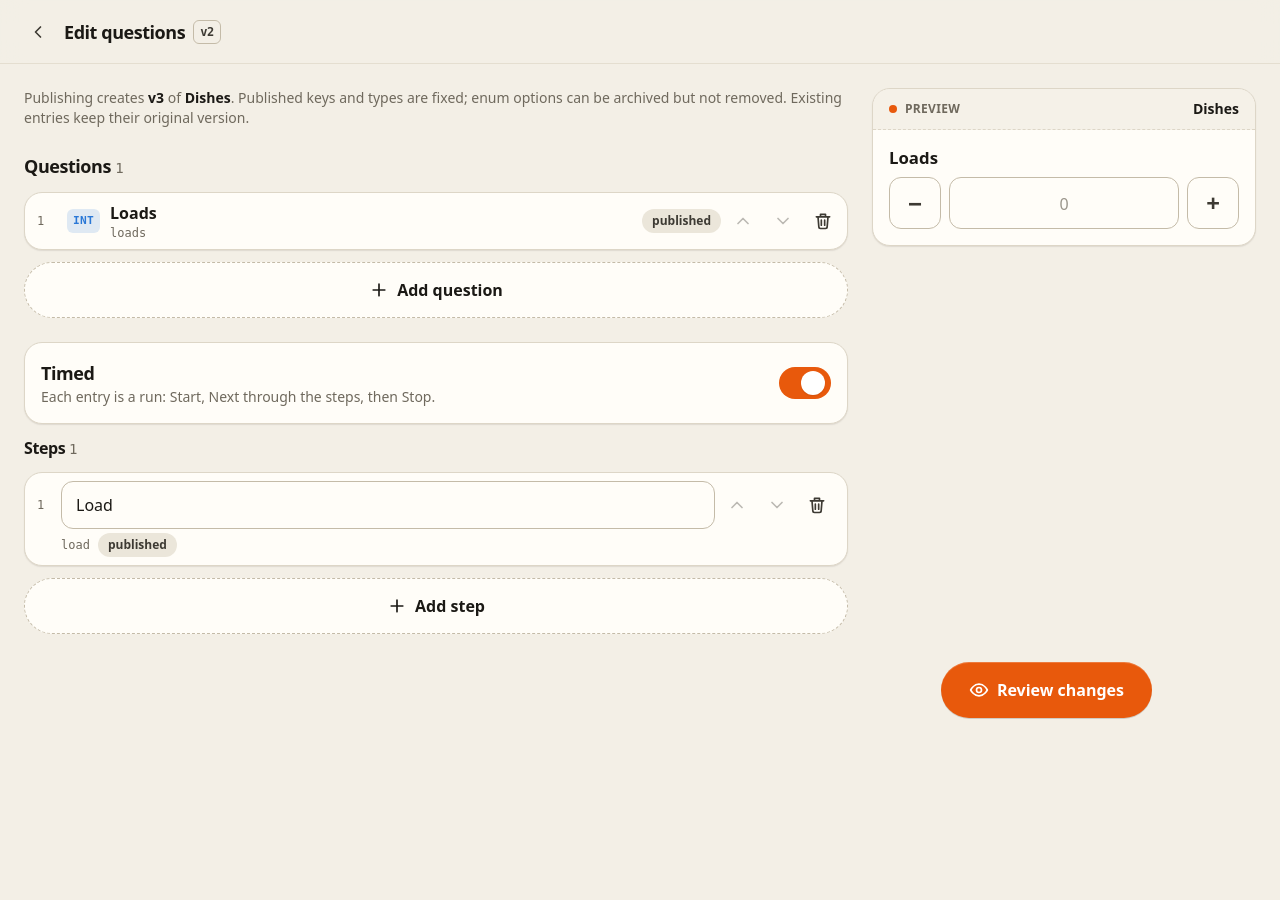
Test case: EditQuestionsPage publish › a new step never takes a retired step’s key, unless it is that step
The width and height of the screenshot is (1280, 900).
Click the button "Add step": (436, 606) left=24, top=578, right=848, bottom=634
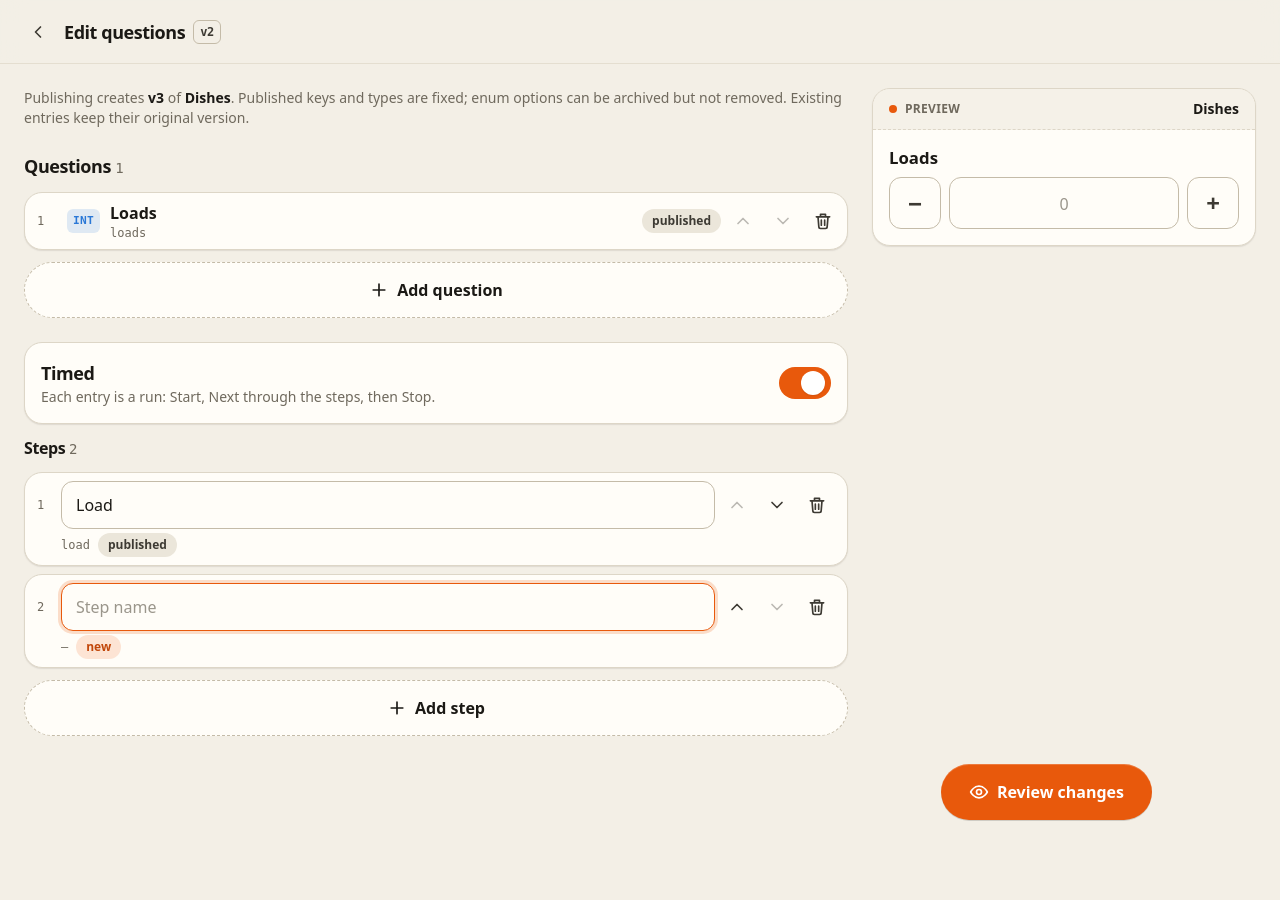
In the field named "Step 2 name": (388, 607) left=61, top=583, right=715, bottom=631, type "Prep"
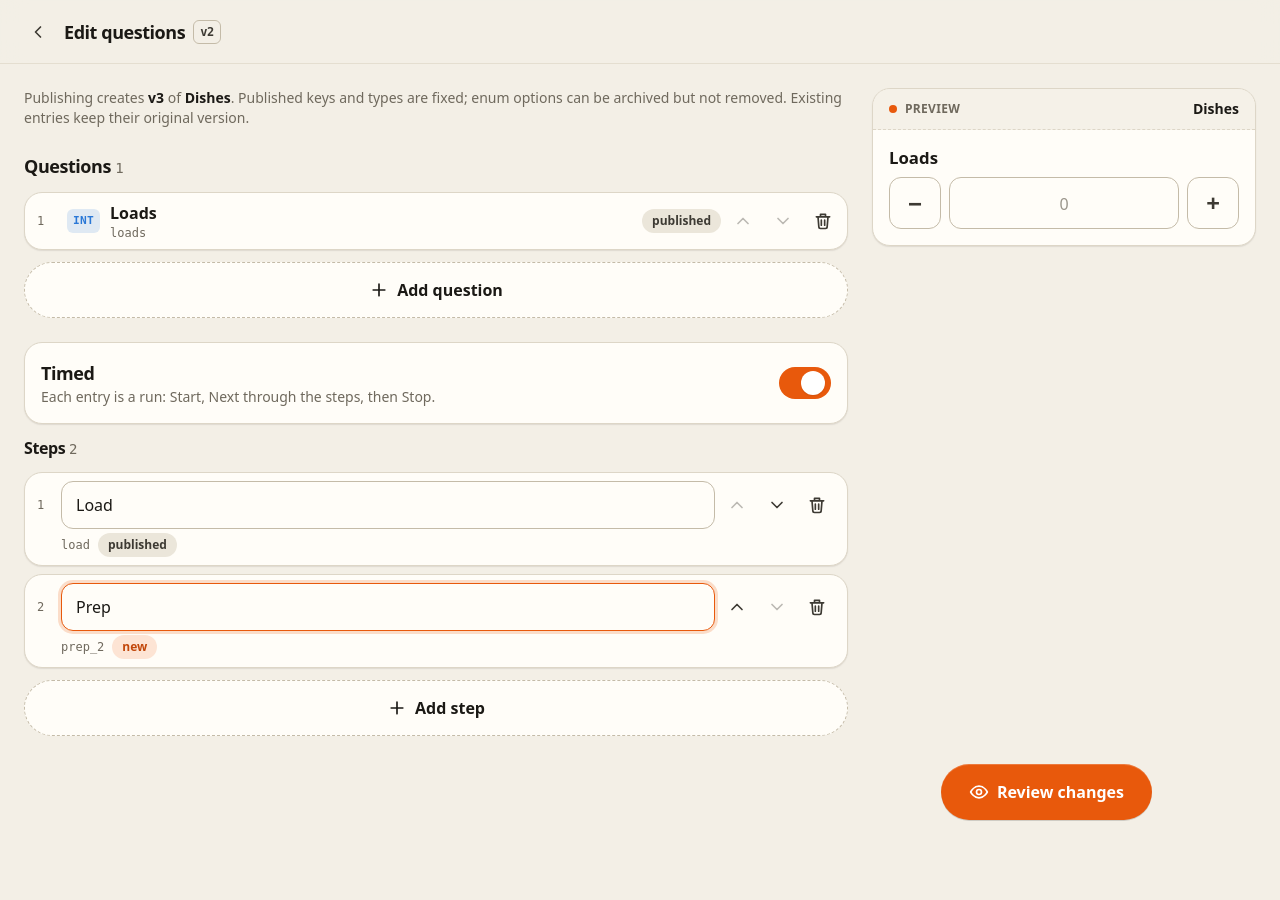
Now the elements with test id "step-key" read "load", "prep_2", in this order, box left=61, top=537, right=90, bottom=553; left=61, top=639, right=104, bottom=655
Replace the text in the field named "Step 2 name" with "prep work": (388, 607) left=61, top=583, right=715, bottom=631
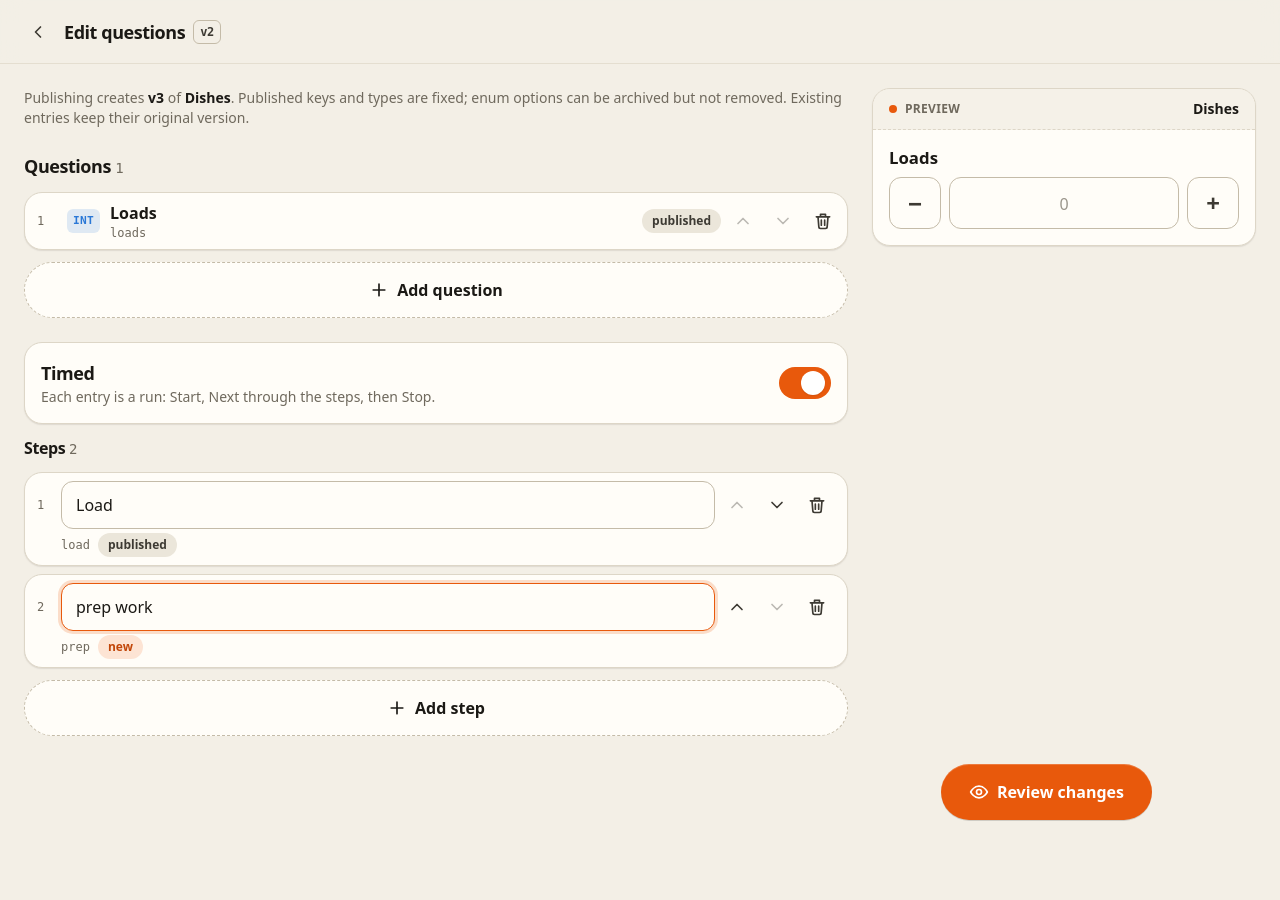
Now the elements with test id "step-key" read "load", "prep", in this order, box left=61, top=537, right=90, bottom=553; left=61, top=639, right=90, bottom=655
